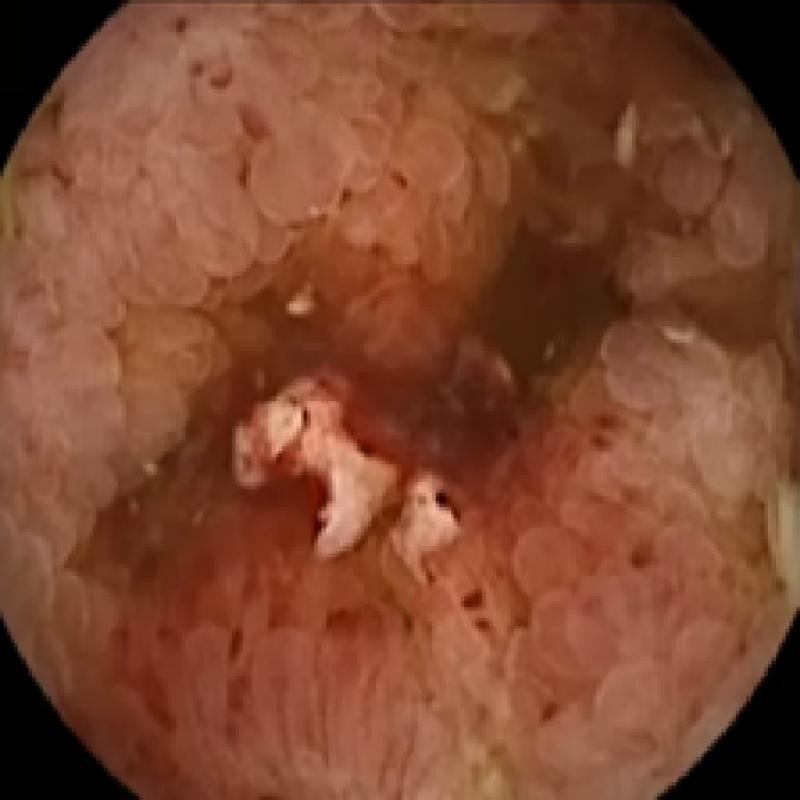bleeding: (182, 232, 632, 639)
